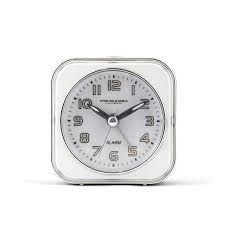alarm_clock: (47, 58, 174, 184)
